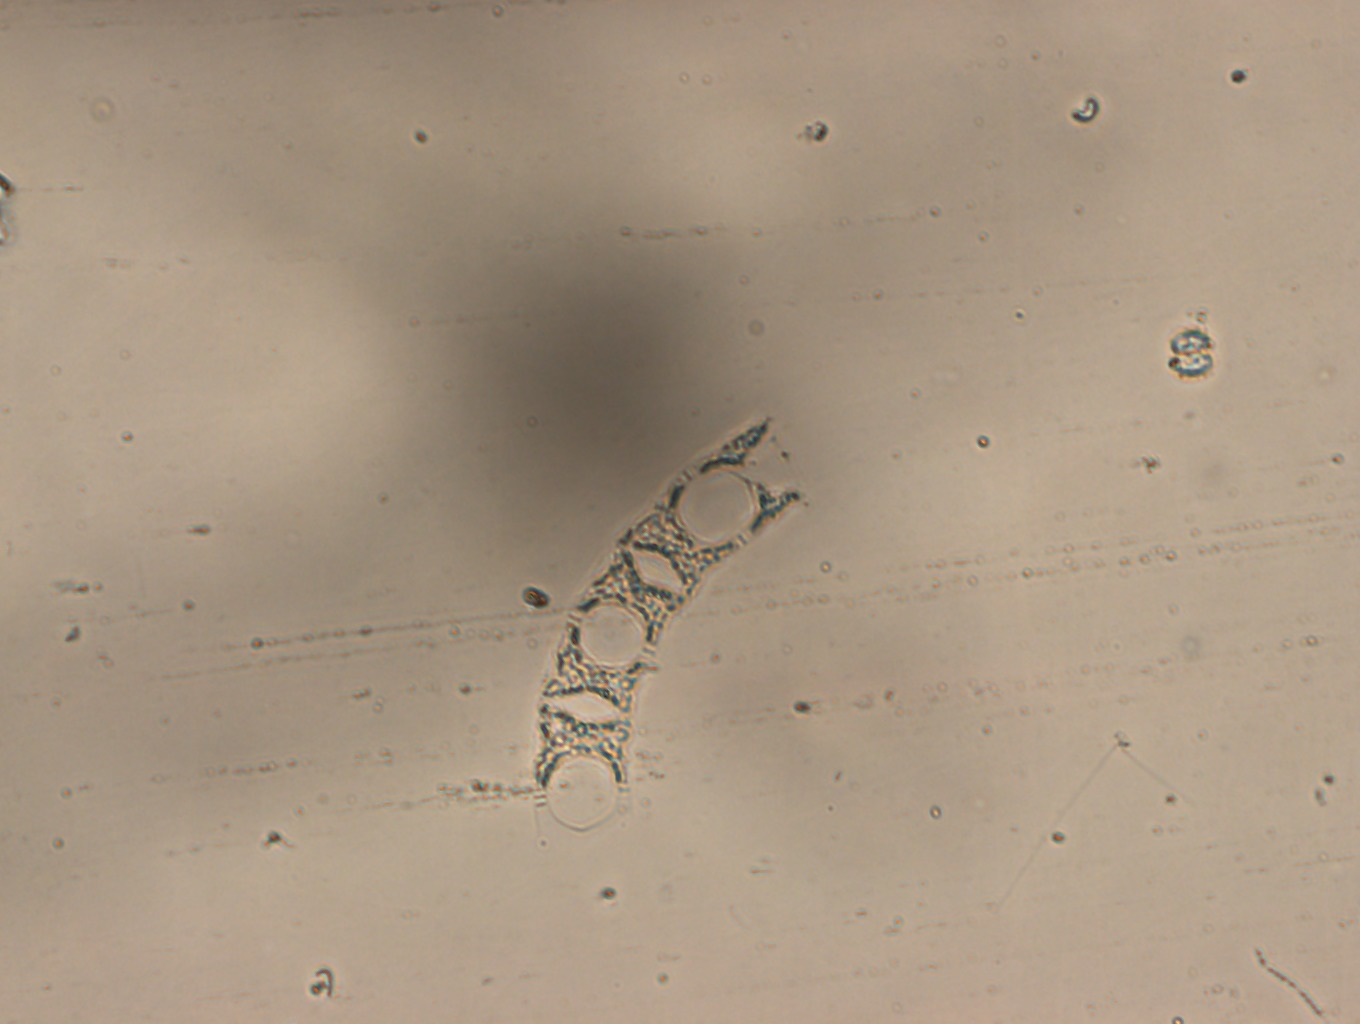eucampia: (533, 416, 794, 849)
